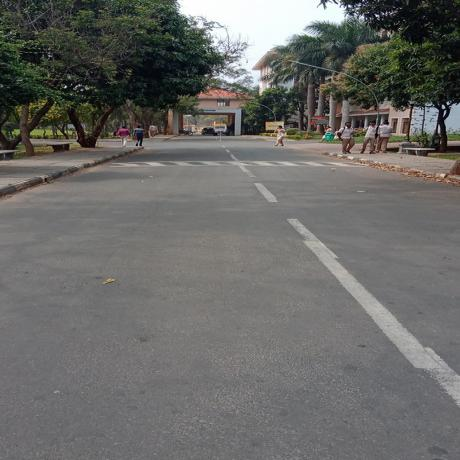Speed Bump: (100, 160, 370, 167)
